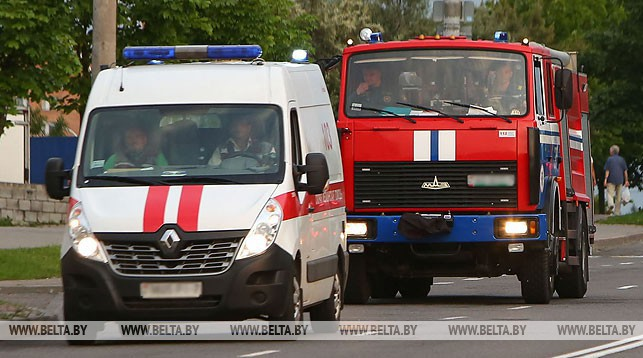special: (59, 44, 351, 329), (340, 31, 597, 303)
